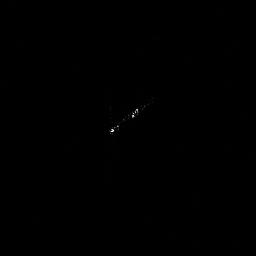ship: (108, 106, 141, 135)
